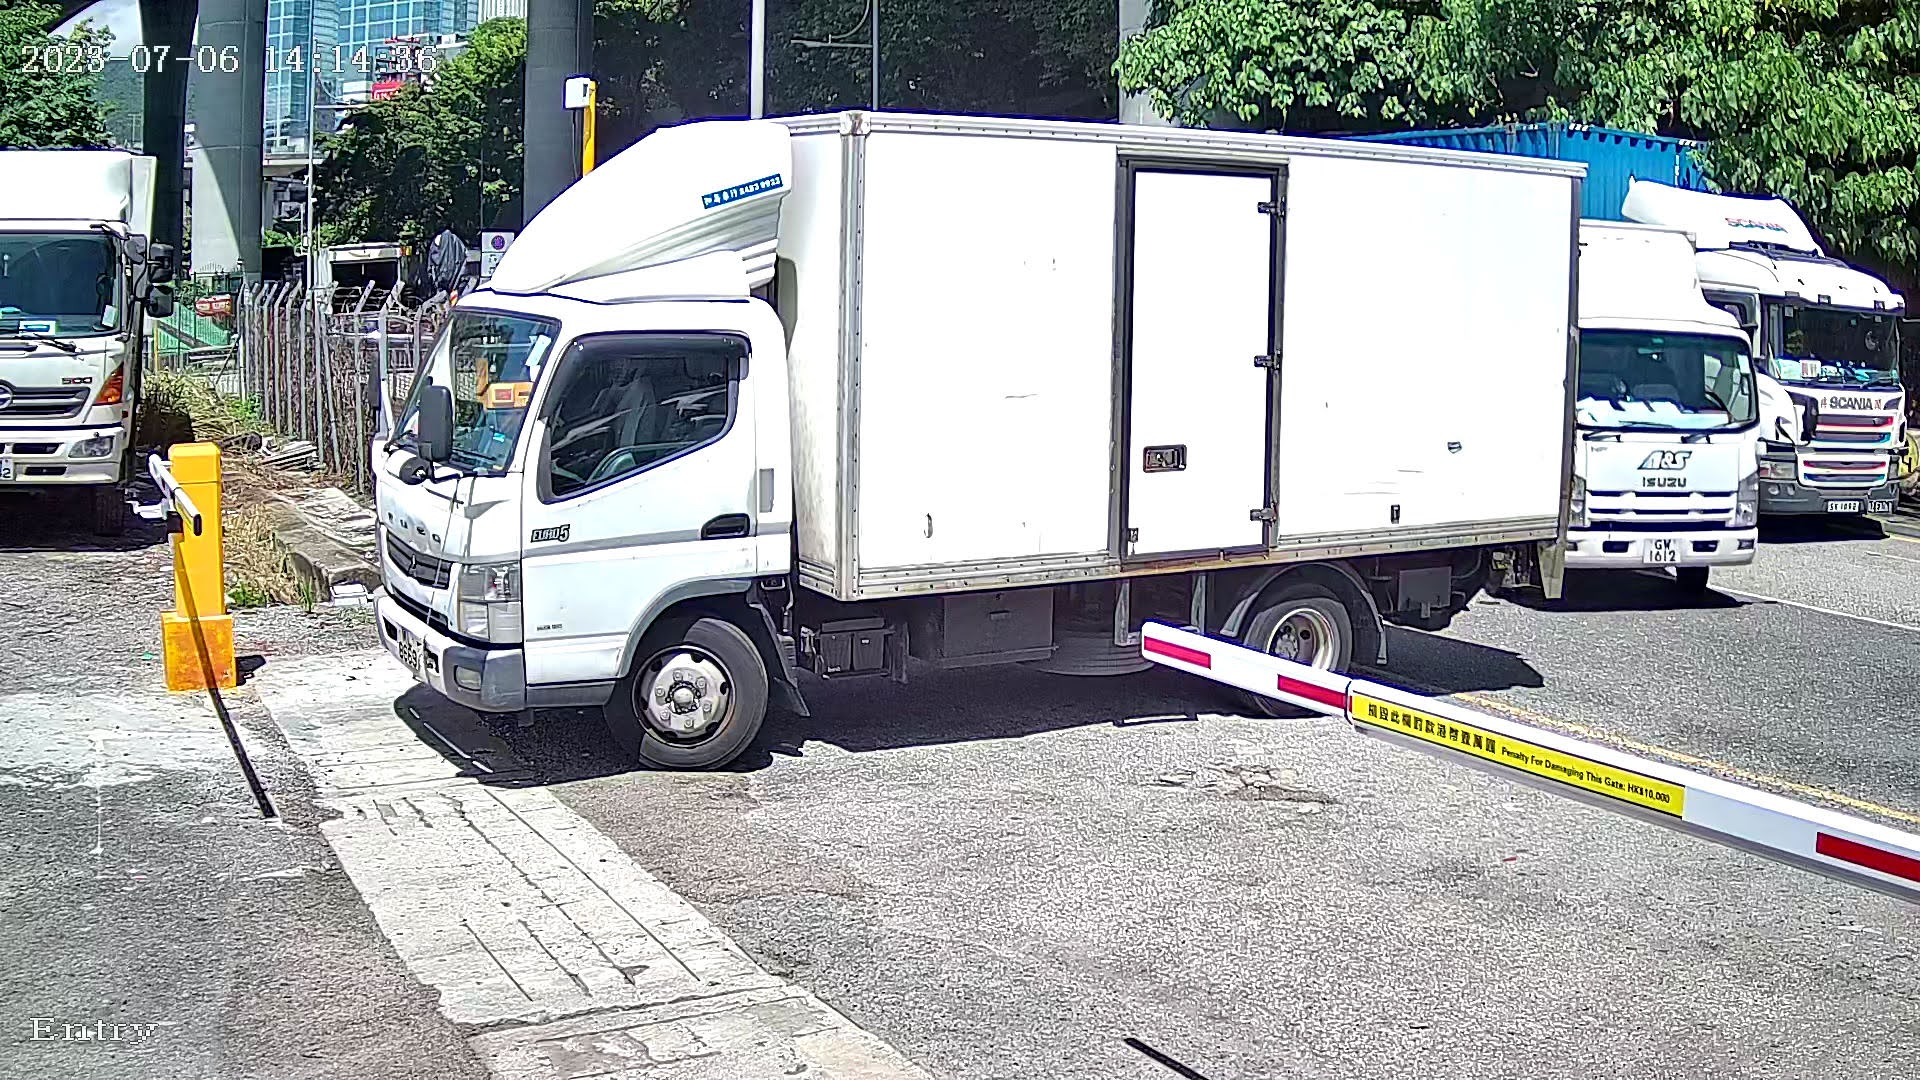truck_small: (285, 45, 1625, 823)
